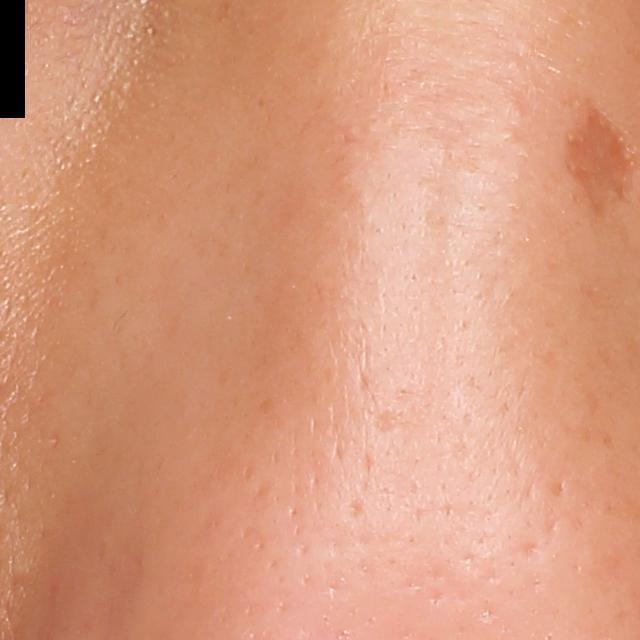atrophic_scar: (559, 110, 637, 230), (375, 408, 396, 439), (344, 498, 367, 525), (522, 540, 543, 561), (551, 478, 566, 496)
